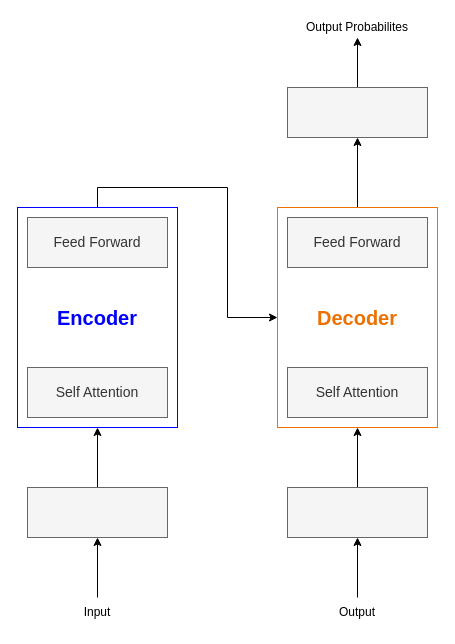
This 455x644 diagram has some shape labels left out. Here are the shapes that lost their labels. From the top down, the centre of each, then its label:
the point at 357,112: Softmax Output
the point at 97,512: Input Embedding
the point at 357,512: Output Embedding
